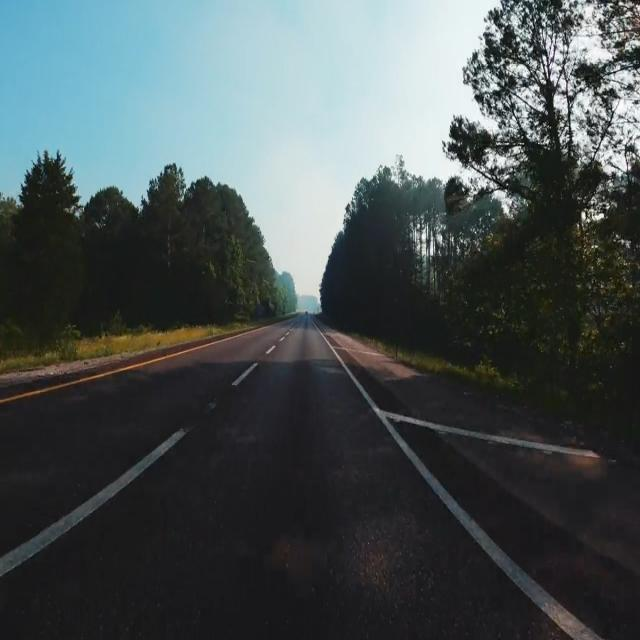asphalt: (0, 316, 640, 639)
